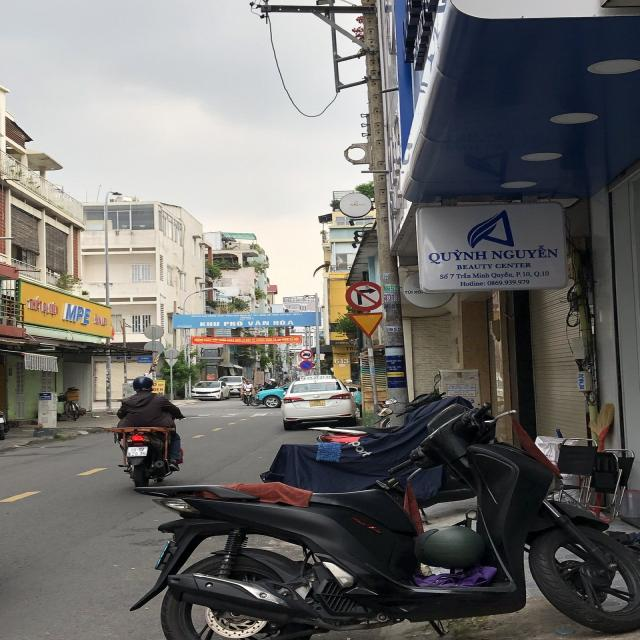Bien bao cam re phai: (342, 279, 386, 313)
Bien bao giao nhau voi duong uu tien: (343, 311, 386, 339)
